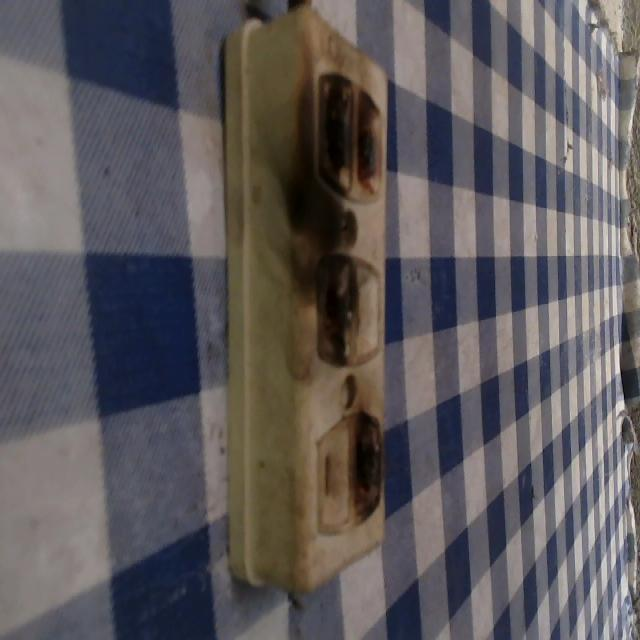-: (306, 67, 401, 208), (311, 248, 364, 369), (351, 405, 388, 519)
